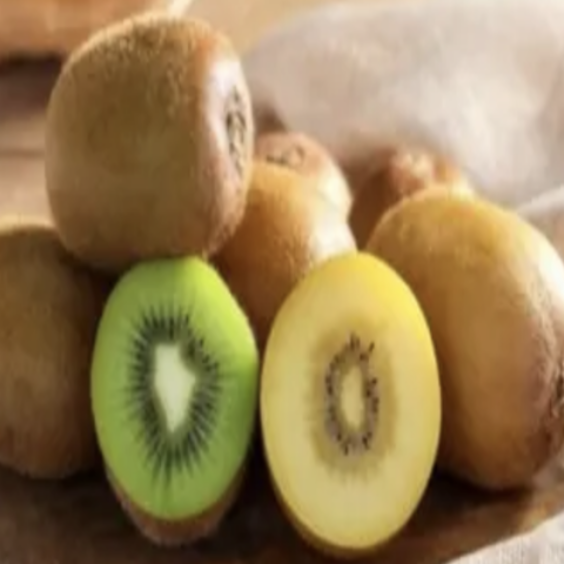kiwi: (350, 139, 563, 536), (28, 4, 270, 263)
